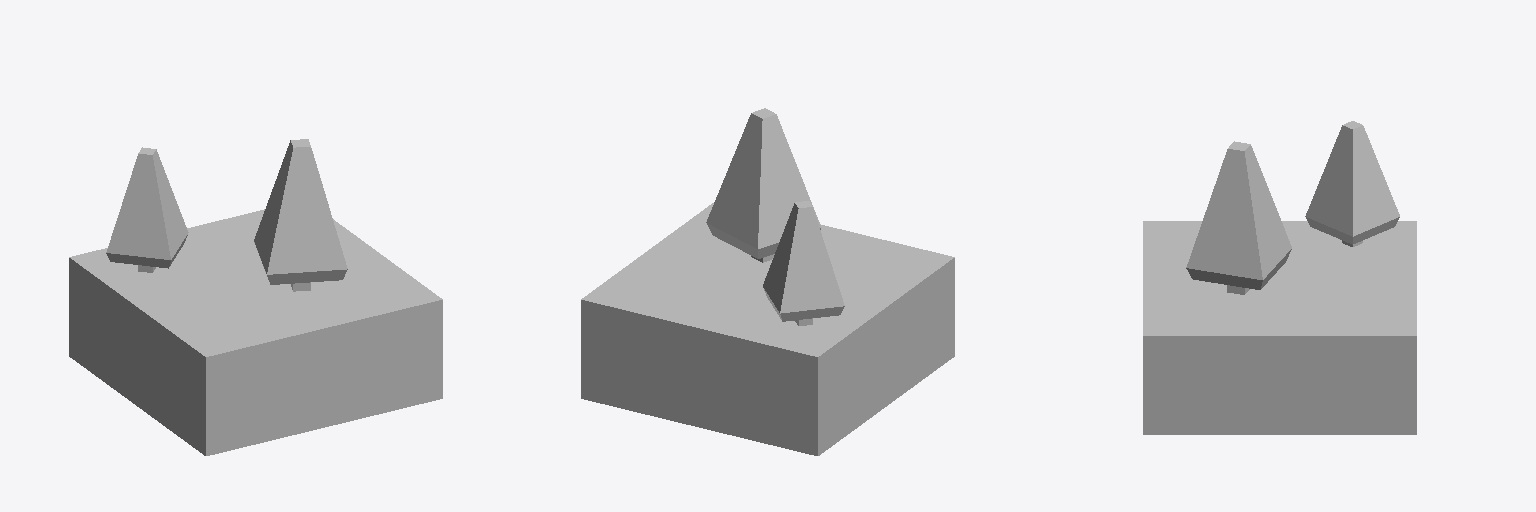
The model's file is tile_063.obj.
The picture shows the model from 3 angles: view 1: azimuth 30°, elevation 25°; view 2: azimuth 150°, elevation 25°; view 3: azimuth 270°, elevation 25°; orthographic projection.
Parts seen in each view (by area): view 1: tile_063, Component#2; view 2: tile_063, Component#2; view 3: tile_063, Component#2.
Boxes of the visible parts, x1,y1,x2,y2 form: tile_063: [69, 209, 442, 455]; Component#2: [106, 139, 347, 291]; tile_063: [581, 203, 954, 455]; Component#2: [706, 108, 844, 325]; tile_063: [1143, 221, 1416, 434]; Component#2: [1186, 121, 1399, 294].
Bounding box in the file's own units: 1 × 0.9802 × 1.